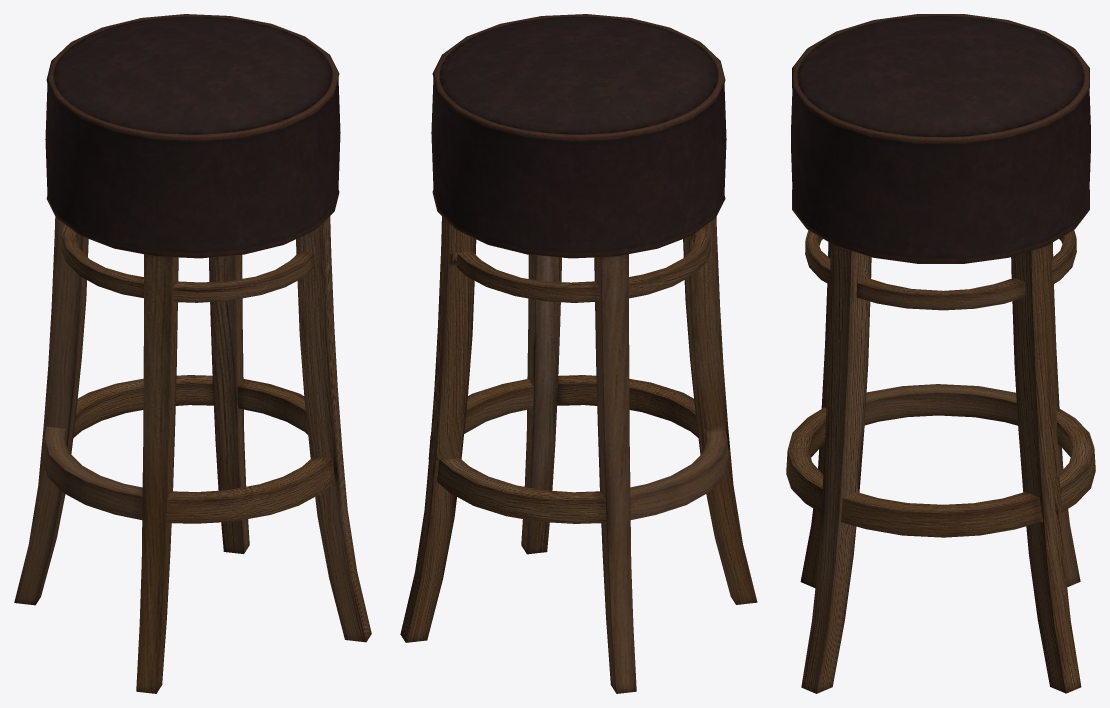
File: footstool.fbx
3 renders of one model, left to right at view 1: azimuth 30°, elevation 25°; view 2: azimuth 150°, elevation 25°; view 3: azimuth 270°, elevation 25°, orthographic. The views are drawn at different scales.
Parts seen in each view (by area): view 1: Sgabbello; view 2: Sgabbello; view 3: Sgabbello.
Boxes of the visible parts, bbox=[...] form: Sgabbello: bbox=[14, 14, 371, 693]; Sgabbello: bbox=[400, 14, 757, 693]; Sgabbello: bbox=[786, 14, 1095, 693].
Size of the model in its own units: 40.24 by 82.64 by 40.24.
